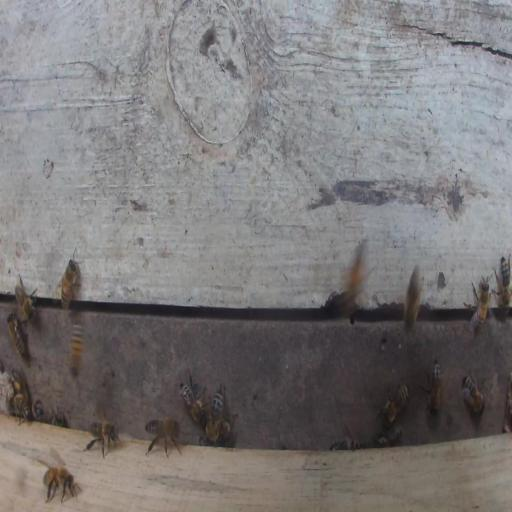bee: (464, 272, 494, 334), (144, 415, 182, 458), (42, 464, 81, 504), (54, 252, 80, 309), (179, 370, 206, 424), (404, 265, 423, 333), (87, 419, 119, 459), (379, 383, 409, 425), (345, 243, 367, 294), (461, 372, 486, 416), (15, 273, 37, 322), (205, 390, 223, 446), (69, 314, 85, 375), (7, 311, 26, 357), (430, 359, 441, 415), (374, 426, 403, 447), (10, 393, 31, 421), (501, 255, 511, 311), (12, 369, 29, 399), (329, 437, 355, 450), (218, 418, 231, 443), (33, 400, 44, 421), (52, 412, 64, 427)
